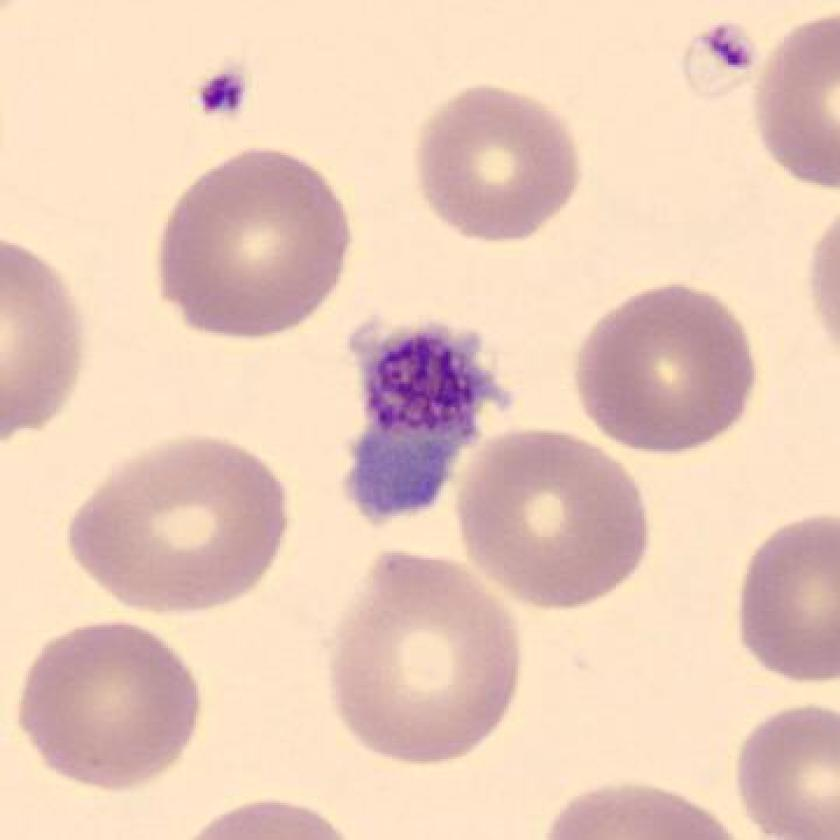platelets: (325, 307, 517, 534)
